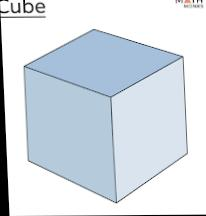cube: (22, 29, 189, 203)
